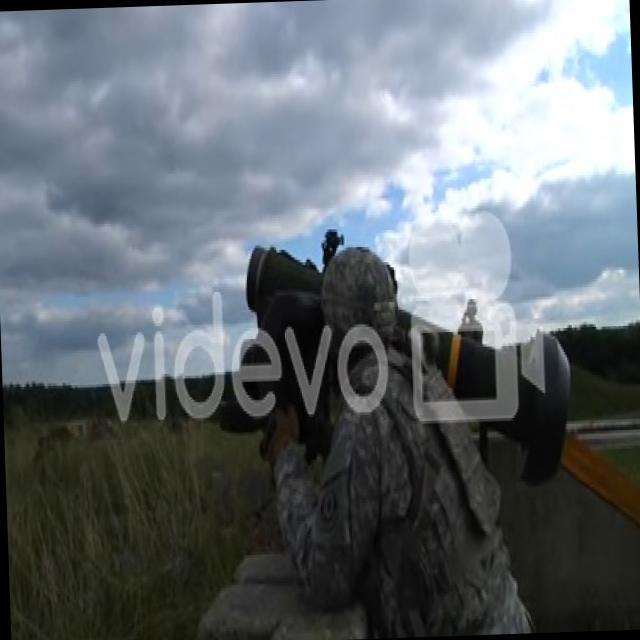rocket: (251, 234, 572, 490)
